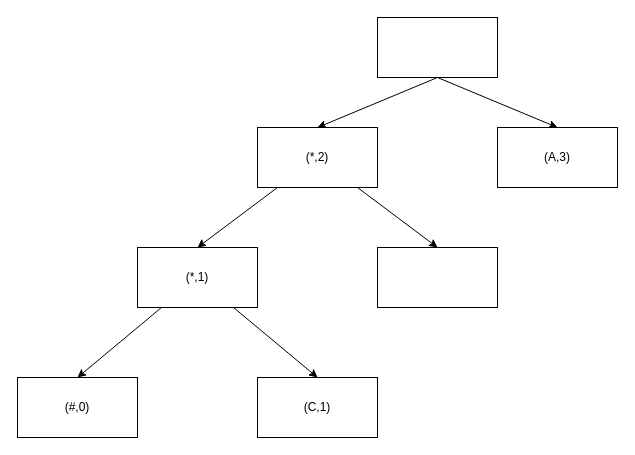
This 635x455 diagram has some shape labels left out. Here are the shapes that lost their labels. From the top down, the box of each, then its label:
(376, 16, 498, 78): (root,5)
(376, 246, 498, 308): (B,1)
